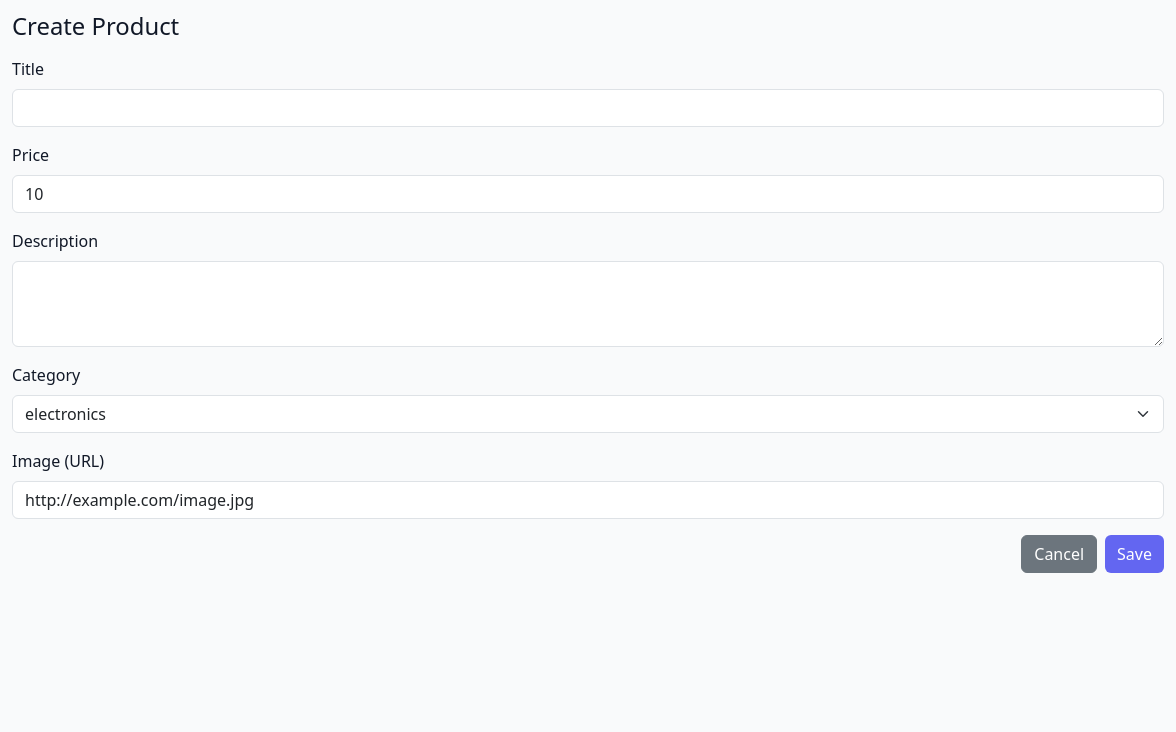
Test: FromProducts › should display validation errors when the form is submitted with invalid values
Click the button "Save": click(1135, 554) [1105,535,1164,573]
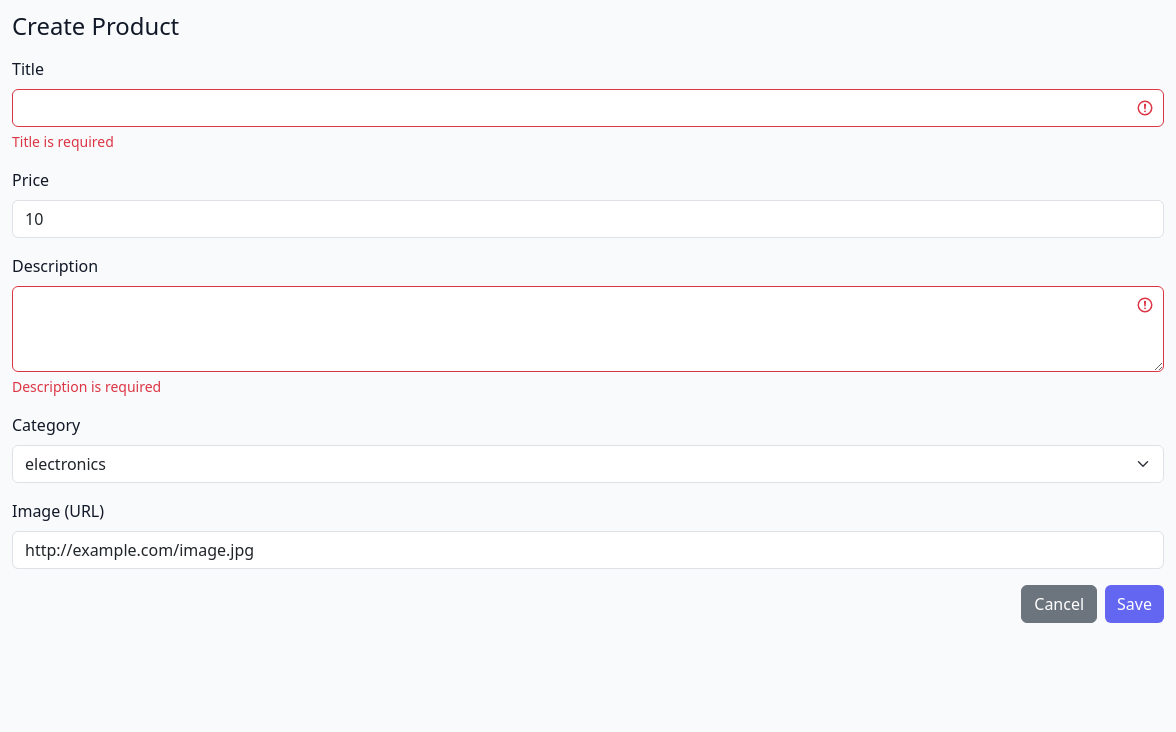
Result: the text "Title is required" is shown at [12,132,114,151]
Result: the text "Description is required" is shown at [12,377,161,396]
